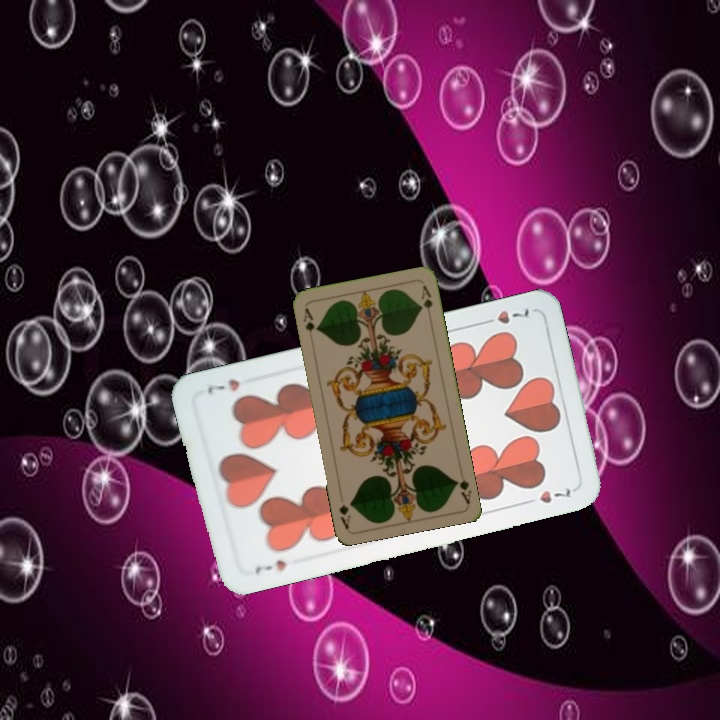GA: (299, 304, 319, 344), (451, 475, 474, 506)
H7: (477, 304, 534, 327), (251, 556, 289, 576)
